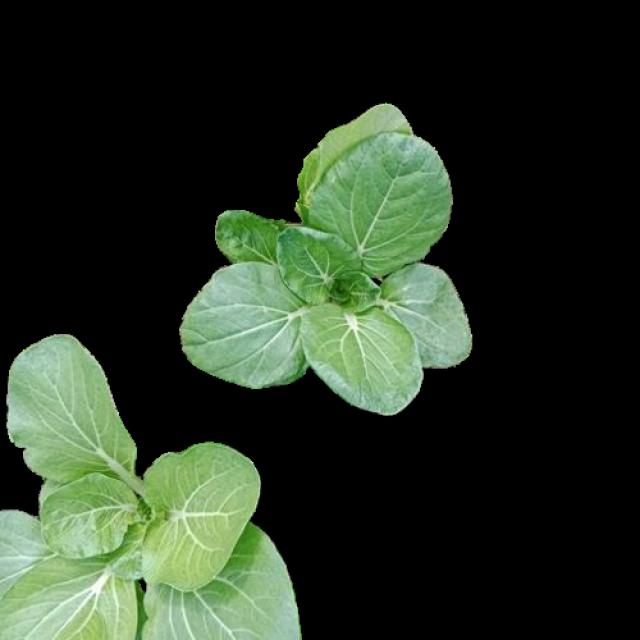healthy: (1, 333, 302, 636), (183, 101, 474, 414)
mature: (1, 335, 302, 639)
not-mature: (182, 104, 472, 416)
